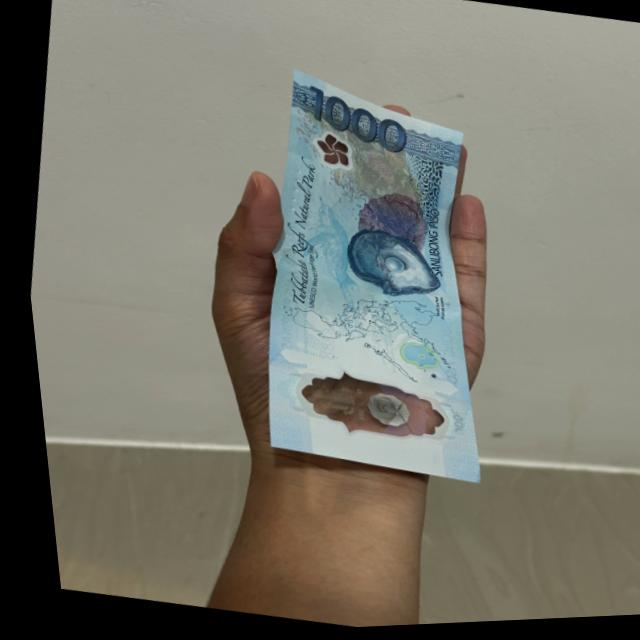clear_window: (267, 356, 453, 457)
sampaguita: (307, 134, 363, 175)
value: (297, 81, 416, 160)
